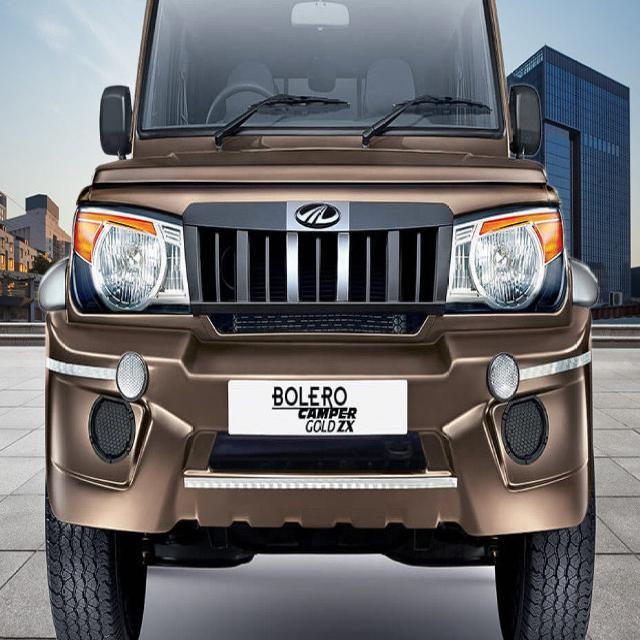light_vehicle: (42, 4, 598, 640)
